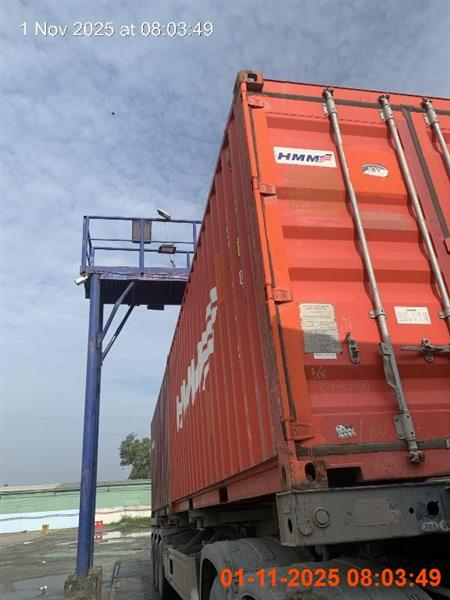broken: (145, 72, 449, 599)
